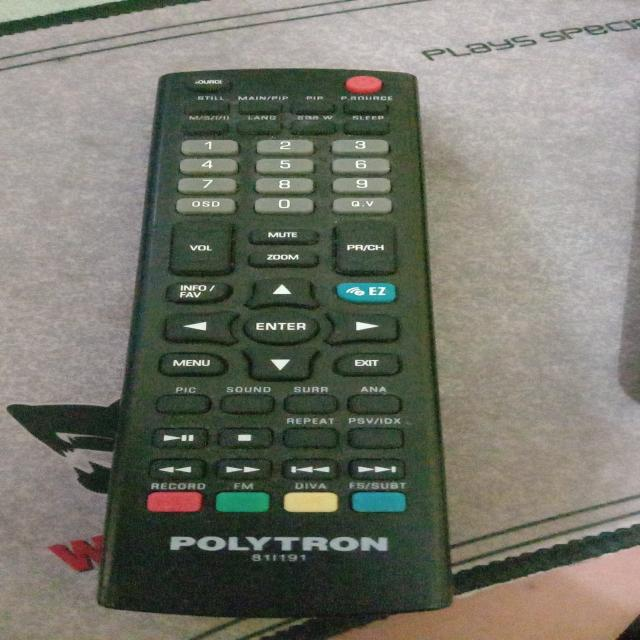remote: (82, 65, 439, 629)
